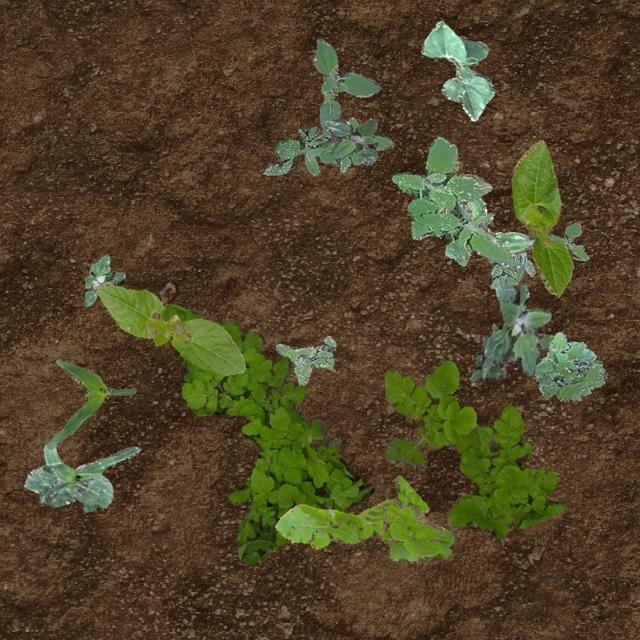crop: (96, 282, 244, 374), (510, 138, 572, 296), (46, 358, 134, 448), (421, 20, 494, 120), (39, 443, 140, 502), (456, 196, 534, 268), (22, 462, 112, 510)
weed: (158, 302, 374, 564), (382, 360, 566, 538), (262, 38, 392, 174), (274, 474, 454, 562), (390, 136, 510, 266), (468, 282, 554, 382), (534, 330, 608, 400), (274, 336, 334, 386), (323, 118, 378, 164), (84, 253, 124, 306), (487, 250, 532, 288), (548, 222, 588, 260)
